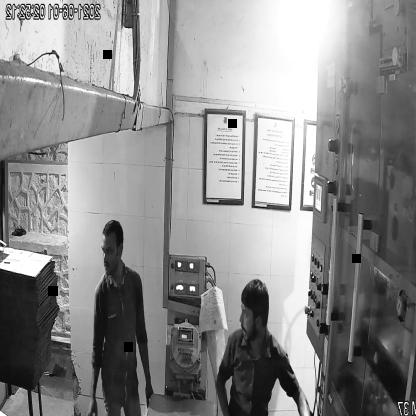no_goggles: (236, 302, 272, 324), (97, 240, 128, 264)
